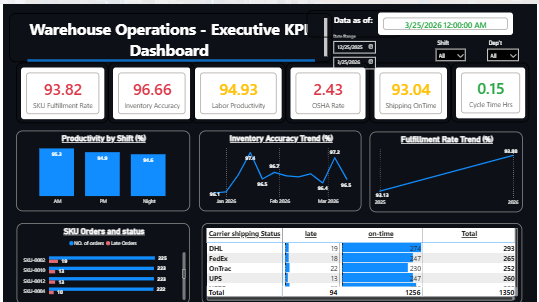

The dashboard page shown, as its layout file describes it:
{"tool":"powerbi","page":{"name":"Executive KPIs","canvas":[1280,720],"ordinal":0},"visuals":[{"type":"cardVisual","fields":{"Data":["orders.Fulfillment Rate"]},"box":[30.9,139.9,221.2,146.4],"z":0},{"type":"cardVisual","fields":{"Data":["shipments.Cycle Time Hrs"]},"box":[1075.1,139.9,187.1,144.8],"z":1000},{"type":"textbox","box":[14.6,21.1,775.9,118.7],"z":2000},{"type":"cardVisual","fields":{"Data":["shipments.Shipping OnTime"]},"box":[880,139.9,195.2,146.4],"z":3000},{"type":"cardVisual","fields":{"Data":["inventory.Inventory Accuracy"]},"box":[252.1,139.9,208.2,146.4],"z":4000},{"type":"cardVisual","fields":{"Data":["labor.Labor Productivity"]},"box":[448.9,139.9,229.3,146.4],"z":5000},{"type":"cardVisual","fields":{"Data":["safety_incidents.OSHA Rate"]},"box":[678.3,139.9,201.7,146.4],"z":6000},{"type":"lineChart","title":"Fulfillment Rate Trend (%)","fields":{"Category":["orders.order_date.Variation.Date Hierarchy.Year","orders.order_date.Variation.Date Hierarchy.Quarter","orders.order_date.Variation.Date Hierarchy.Month","orders.order_date.Variation.Date Hierarchy.Day"],"Y":["orders.Fulfillment Rate"]},"box":[879.3,305.4,367.7,193.8],"z":7000},{"type":"columnChart","title":"Productivity by Shift (%)","fields":{"Category":["labor.shift"],"Y":["labor.Labor Productivity"]},"box":[31.2,303.8,417.4,193.8],"z":8000},{"type":"lineChart","title":"Inventory Accuracy Trend (%)","fields":{"Y":["inventory.Inventory Accuracy"],"Category":["inventory.count_date.Variation.Date Hierarchy.Year","inventory.count_date.Variation.Date Hierarchy.Quarter","inventory.count_date.Variation.Date Hierarchy.Month","inventory.count_date.Variation.Date Hierarchy.Day"]},"box":[470.2,303.8,390.9,193.8],"z":9000},{"type":"slicer","fields":{"Values":["orders.order_date"]},"box":[779.1,65.1,229.3,92.7],"z":10000},{"type":"slicer","fields":{"Values":["labor.shift"]},"box":[1028,79.7,92.7,92.7],"z":11000},{"type":"slicer","fields":{"Values":["labor.department"]},"box":[1151.6,79.7,96,91.1],"z":12000},{"type":"pivotTable","fields":{"Rows":["shipments.carrier"],"Columns":["shipments.status"],"Values":["CountNonNull(shipments.shipment_id)"]},"box":[476.6,525.4,771,195.2],"z":13000},{"type":"textbox","box":[728.7,14.6,229.3,66.7],"z":14000},{"type":"cardVisual","fields":{"Data":["inventory.Data Max Date"]},"box":[894.6,14.6,335.1,65.1],"z":15000},{"type":"shape","box":[58.6,112.2,689.7,45.5],"z":16000},{"type":"clusteredBarChart","title":"SKU Orders and status","fields":{"Category":["orders.sku"],"Y":["CountNonNull(orders.order_id)","orders.Late Orders"]},"box":[32.5,525.4,416.4,195.2],"z":17000}]}

Visuals, with their boxes in screenshot pixels (x1, y1, x2, y2), scaled from the page's 1280x720 canvas onto the 539x302 screenshot:
cardVisual - orders.Fulfillment Rate: [x1=13, y1=59, x2=106, y2=120]
cardVisual - shipments.Cycle Time Hrs: [x1=453, y1=59, x2=532, y2=119]
textbox: [x1=6, y1=9, x2=333, y2=59]
cardVisual - shipments.Shipping OnTime: [x1=371, y1=59, x2=453, y2=120]
cardVisual - inventory.Inventory Accuracy: [x1=106, y1=59, x2=194, y2=120]
cardVisual - labor.Labor Productivity: [x1=189, y1=59, x2=286, y2=120]
cardVisual - safety_incidents.OSHA Rate: [x1=286, y1=59, x2=371, y2=120]
"Fulfillment Rate Trend (%)" lineChart: [x1=370, y1=128, x2=525, y2=209]
"Productivity by Shift (%)" columnChart: [x1=13, y1=127, x2=189, y2=209]
"Inventory Accuracy Trend (%)" lineChart: [x1=198, y1=127, x2=363, y2=209]
slicer - orders.order_date: [x1=328, y1=27, x2=425, y2=66]
slicer - labor.shift: [x1=433, y1=33, x2=472, y2=72]
slicer - labor.department: [x1=485, y1=33, x2=525, y2=72]
pivotTable - shipments.carrier x shipments.status: [x1=201, y1=220, x2=525, y2=301]
textbox: [x1=307, y1=6, x2=403, y2=34]
cardVisual - inventory.Data Max Date: [x1=377, y1=6, x2=518, y2=33]
shape: [x1=25, y1=47, x2=315, y2=66]
"SKU Orders and status" clusteredBarChart: [x1=14, y1=220, x2=189, y2=301]
